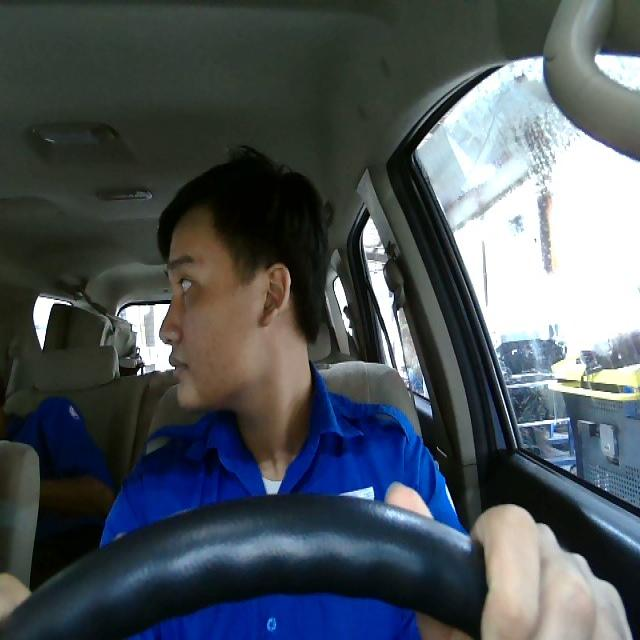seeing_left: (156, 199, 292, 412)
